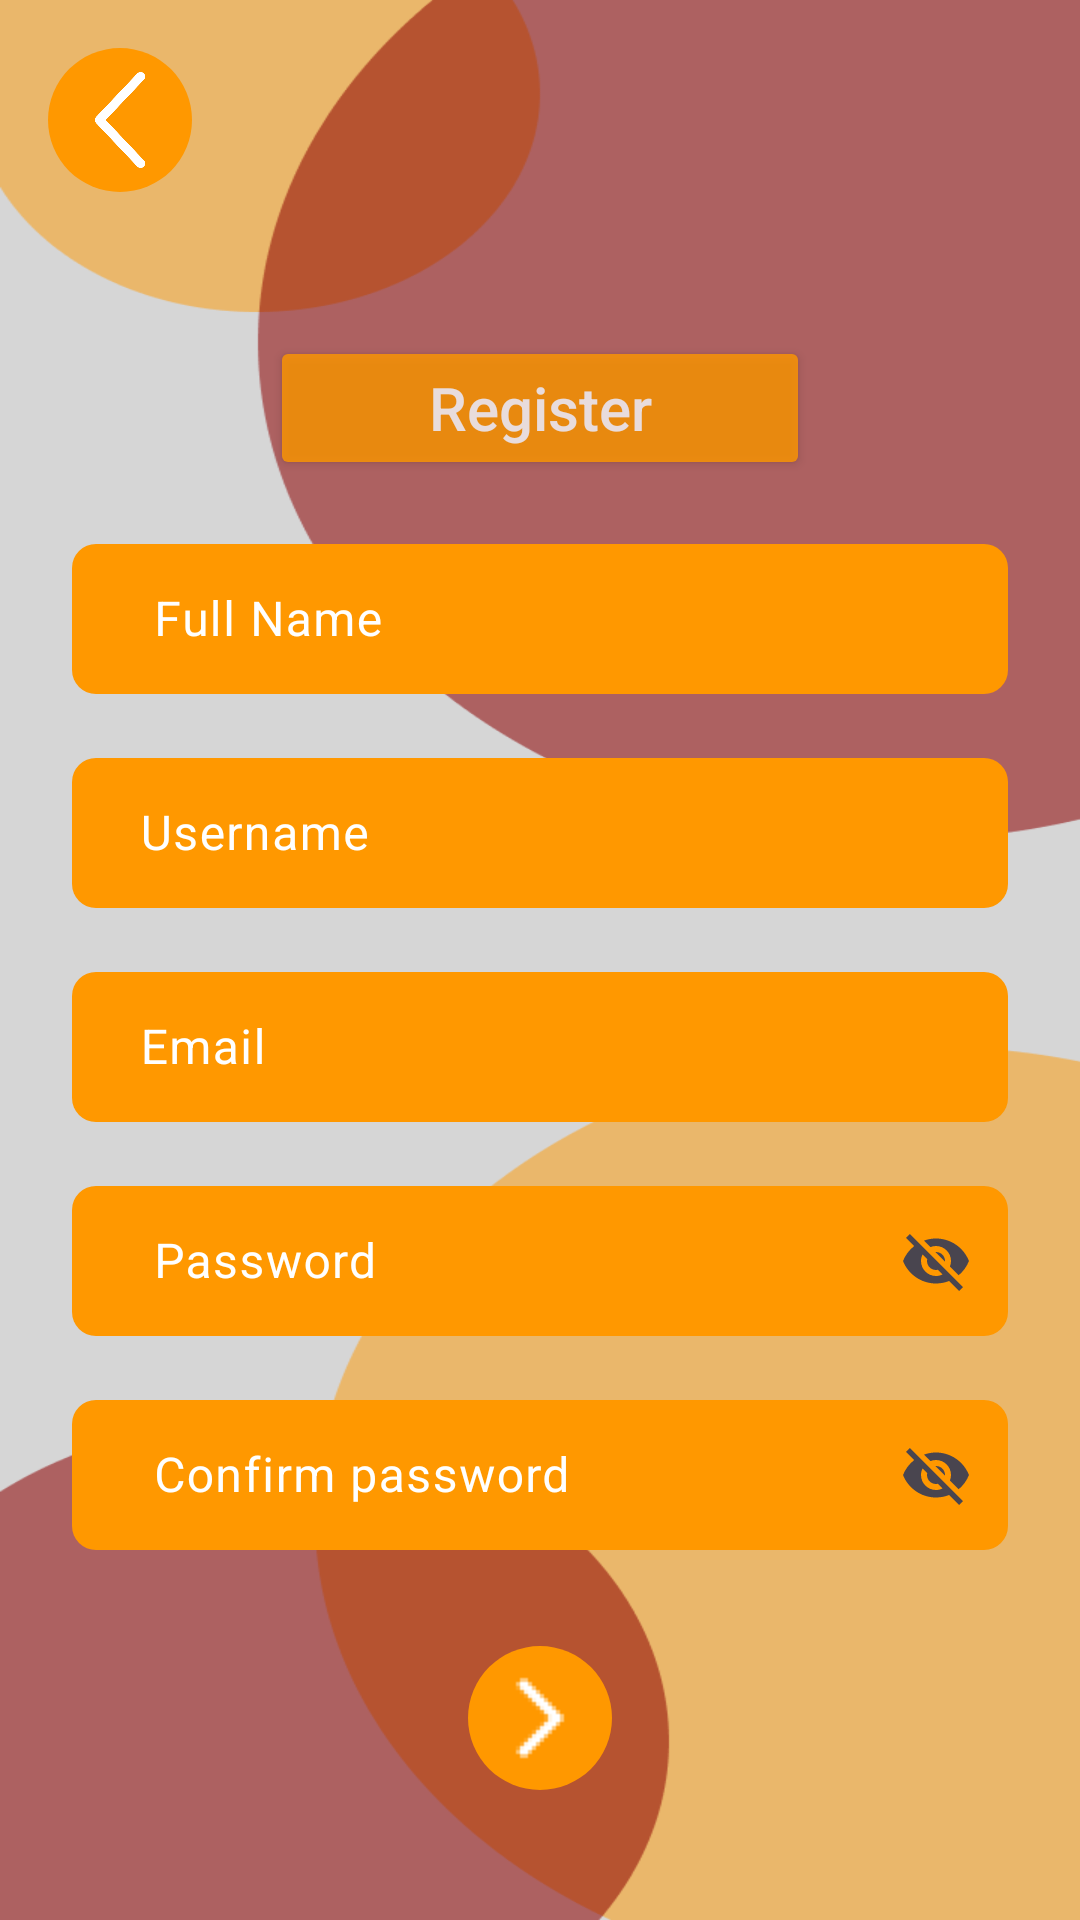

Icons on this 1080*1920 Android screen, each with its box as detection(x1, y1, x2, y2):
arro: detection(468, 1646, 612, 1790)
